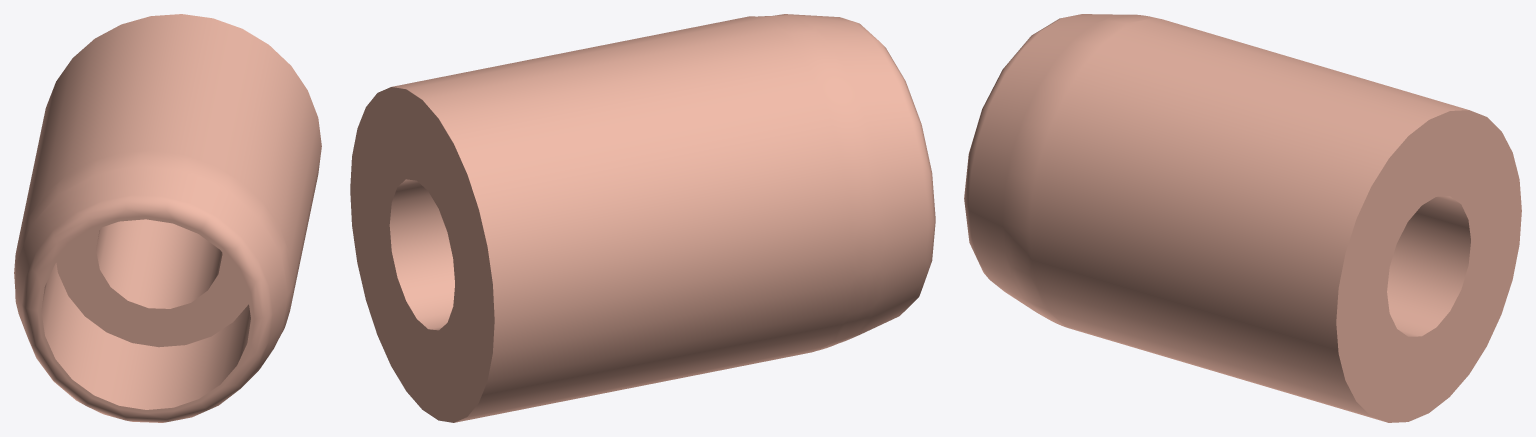
File: 10.2_staticheskiy-kontakt-sk-1000.glb
The picture shows the model from 3 angles, left to right: view 1: azimuth 30°, elevation 25°; view 2: azimuth 150°, elevation 25°; view 3: azimuth 270°, elevation 25°; orthographic projection. The views are drawn at different scales.
Visible parts, largest first — view 1: 10.2_staticheskiy-kontakt-sk-1000; view 2: 10.2_staticheskiy-kontakt-sk-1000; view 3: 10.2_staticheskiy-kontakt-sk-1000.
Boxes of the visible parts, left/top/right/bottom form: 10.2_staticheskiy-kontakt-sk-1000: left=14, top=14, right=321, bottom=422; 10.2_staticheskiy-kontakt-sk-1000: left=350, top=14, right=935, bottom=422; 10.2_staticheskiy-kontakt-sk-1000: left=964, top=14, right=1521, bottom=422.
Bounding box in the file's own units: 51.09 × 31.99 × 55.14.
